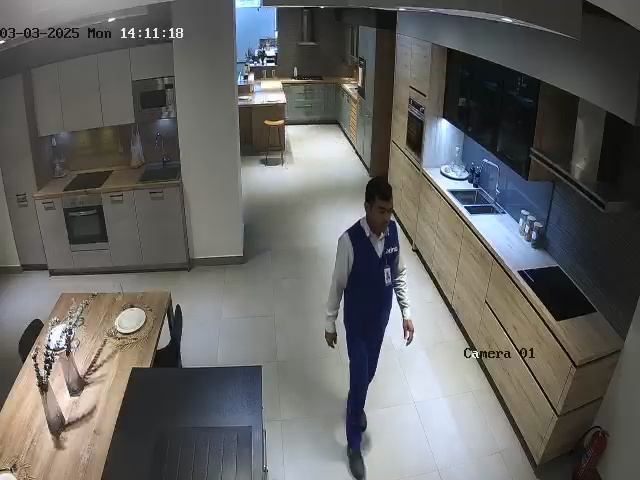employee: (324, 176, 415, 480)
